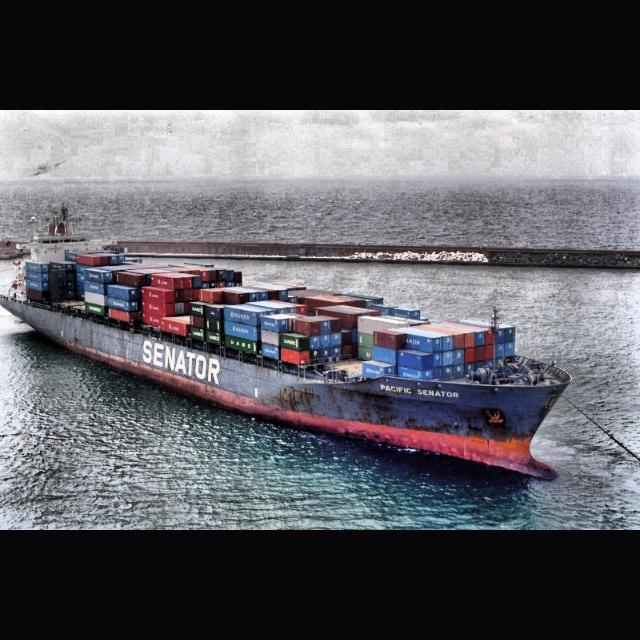container: (0, 205, 572, 482)
